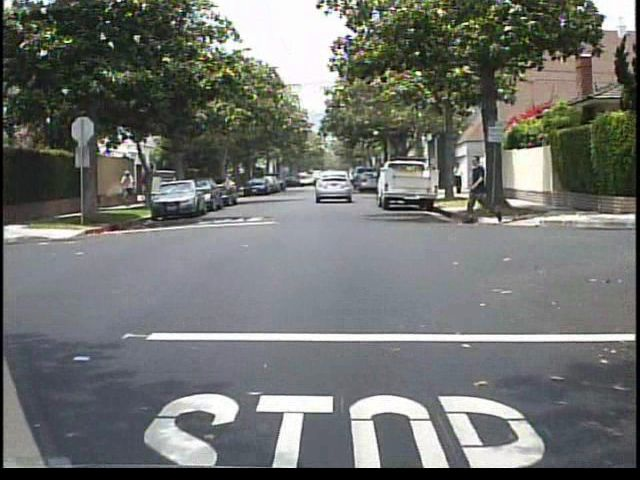person: (458, 153, 506, 229), (118, 167, 140, 204), (170, 169, 187, 203), (453, 160, 465, 198)
